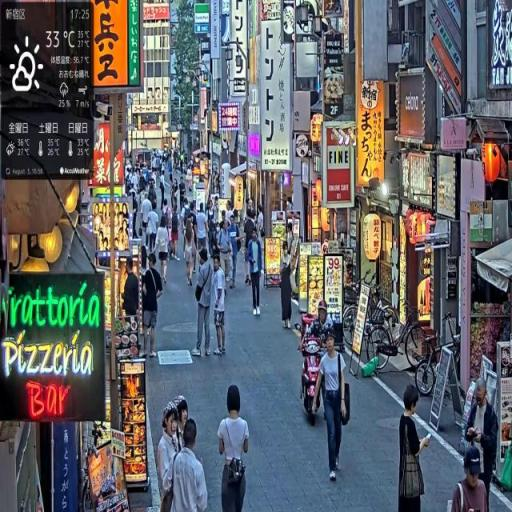person: (315, 331, 350, 482), (398, 385, 433, 512), (466, 378, 499, 512), (218, 383, 251, 512), (168, 418, 209, 512), (158, 403, 184, 512), (450, 445, 488, 512), (141, 251, 163, 360), (194, 248, 215, 360), (212, 252, 228, 358), (247, 227, 265, 317), (280, 244, 296, 331), (228, 212, 244, 288), (184, 221, 199, 290), (157, 219, 171, 288), (170, 206, 180, 261)
